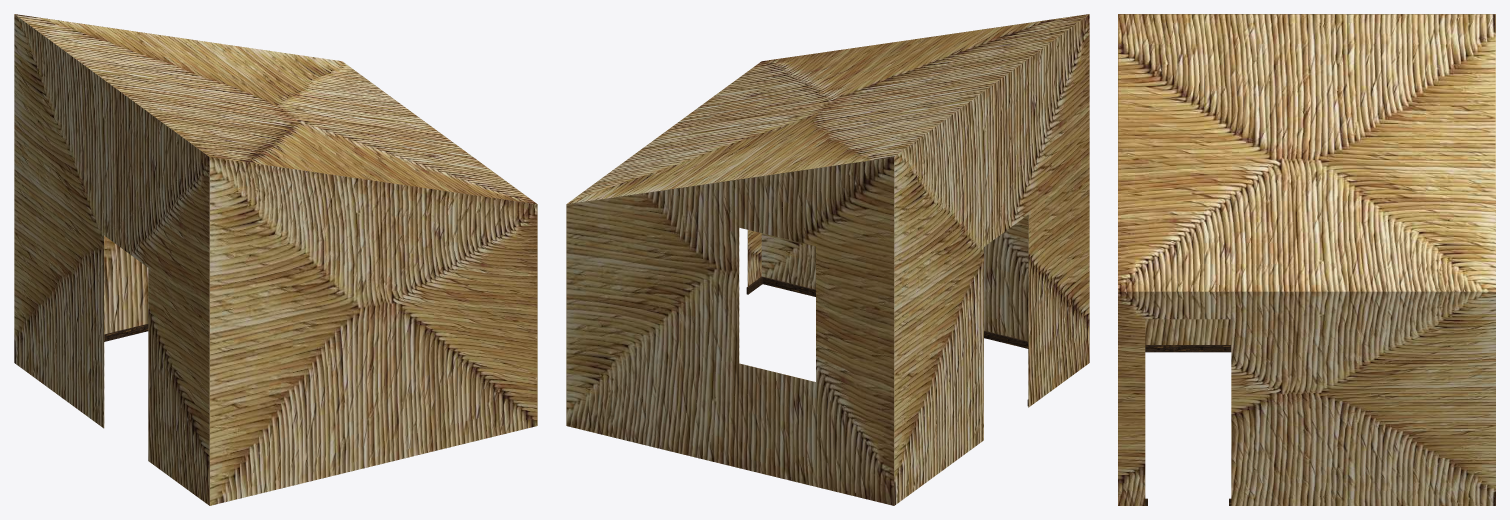
The model's file is Pareti.fbx.
The picture shows the model from 3 angles, left to right: view 1: azimuth 30°, elevation 25°; view 2: azimuth 150°, elevation 25°; view 3: azimuth 270°, elevation 25°; orthographic projection. The views are drawn at different scales.
Visible parts, largest first — view 1: Muro Vuoto, Muro con Porta (alto), Tetto, Muro con Finestra; view 2: Muro con Finestra, Muro con Porta (alto), Tetto, Muro Vuoto, Muro con Porta Basso, Zoccoletto 3; view 3: Tetto, Muro con Porta Basso, Muro con Porta (alto), Zoccoletto 2.
Boxes of the visible parts, bbox=[...] form: Muro Vuoto: bbox=[210, 157, 537, 505]; Muro con Porta (alto): bbox=[14, 14, 209, 505]; Tetto: bbox=[15, 14, 537, 204]; Muro con Finestra: bbox=[15, 14, 218, 334]; Muro con Finestra: bbox=[566, 157, 893, 505]; Muro con Porta (alto): bbox=[894, 14, 1089, 505]; Tetto: bbox=[566, 14, 1088, 204]; Muro Vuoto: bbox=[761, 14, 1088, 341]; Muro con Porta Basso: bbox=[566, 205, 761, 425]; Zoccoletto 3: bbox=[761, 276, 1028, 348]; Tetto: bbox=[1118, 14, 1495, 291]; Muro con Porta Basso: bbox=[1118, 291, 1495, 505]; Muro con Porta (alto): bbox=[1118, 14, 1495, 344]; Zoccoletto 2: bbox=[1145, 345, 1231, 352].
Bounding box in the file's own units: 1276 × 1297 × 1317.
